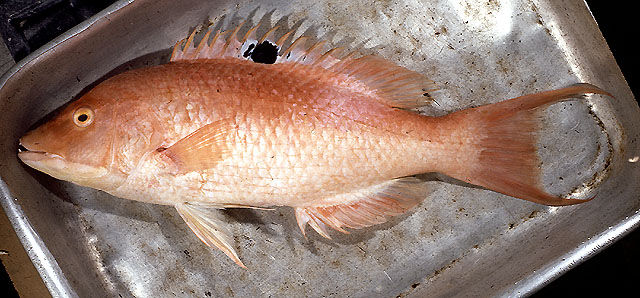fish: (19, 19, 616, 267)
